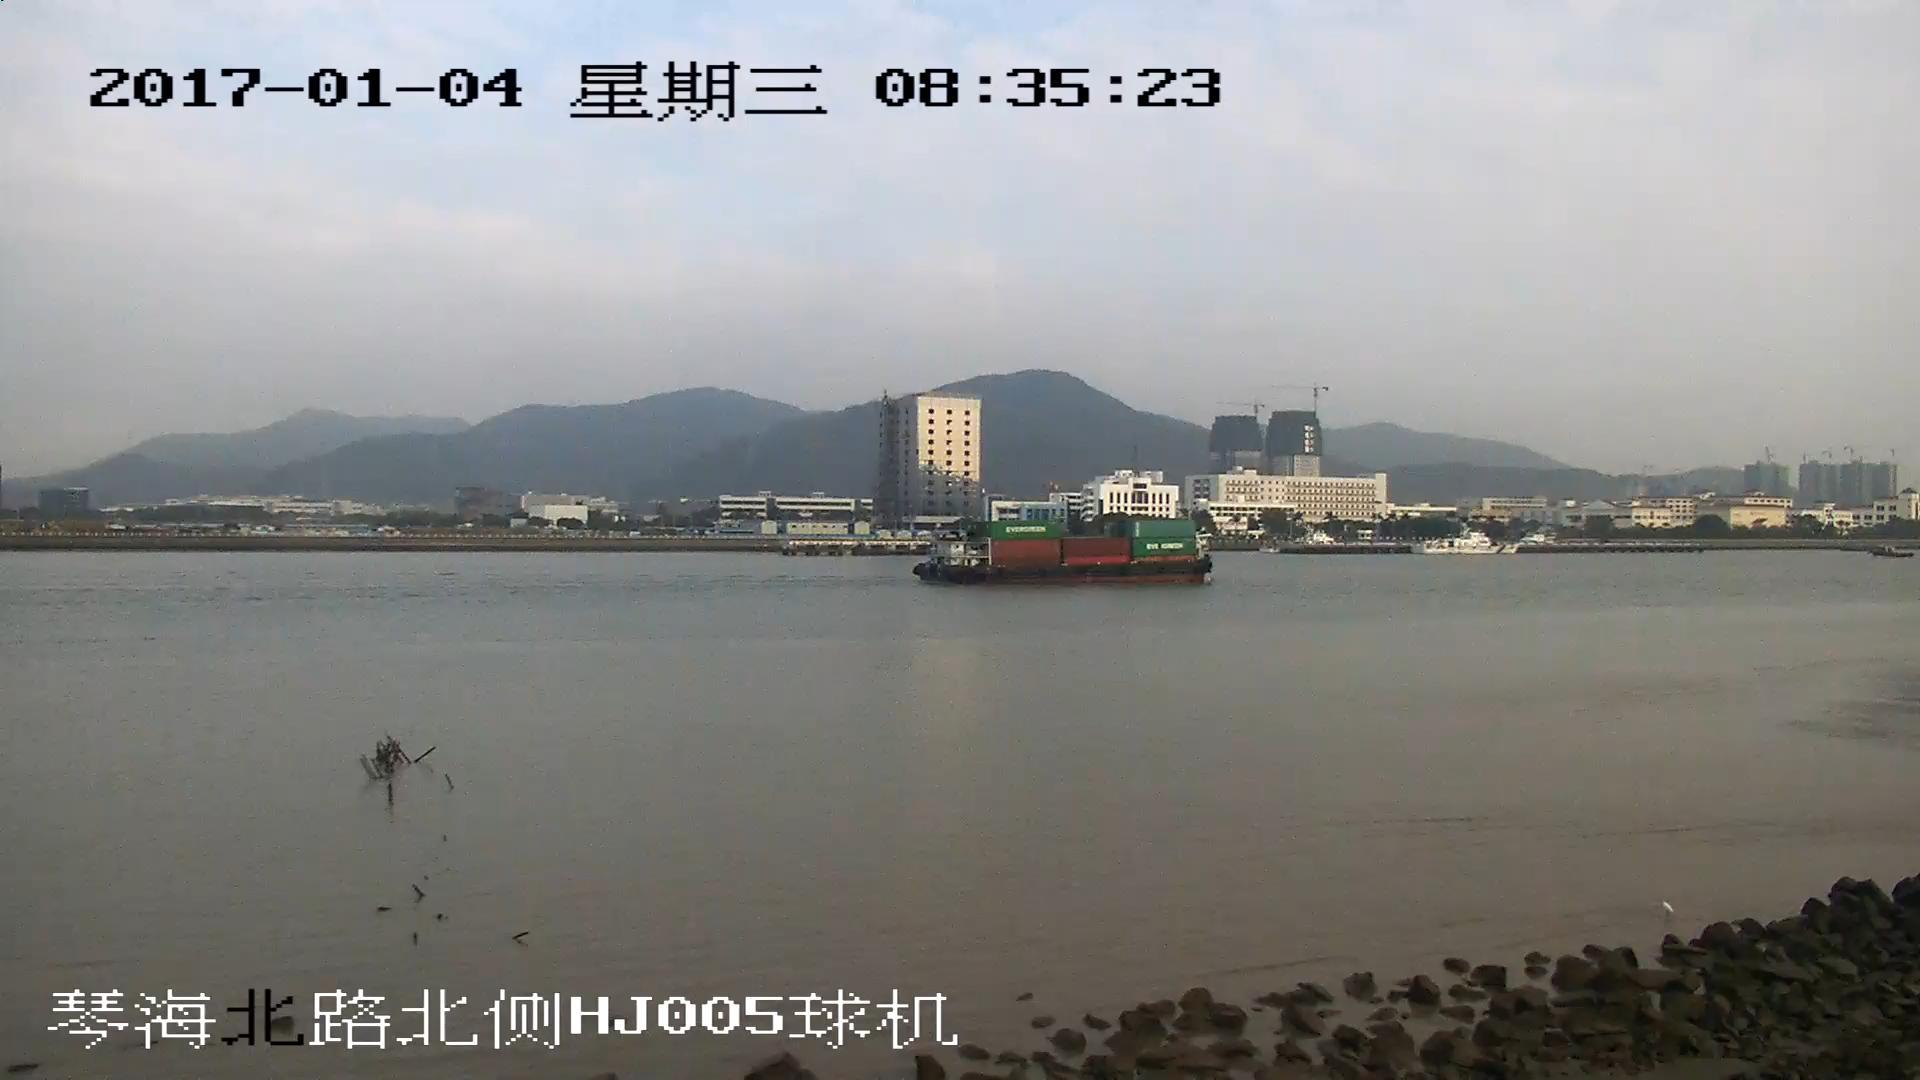Ship: (916, 524, 1211, 585)
